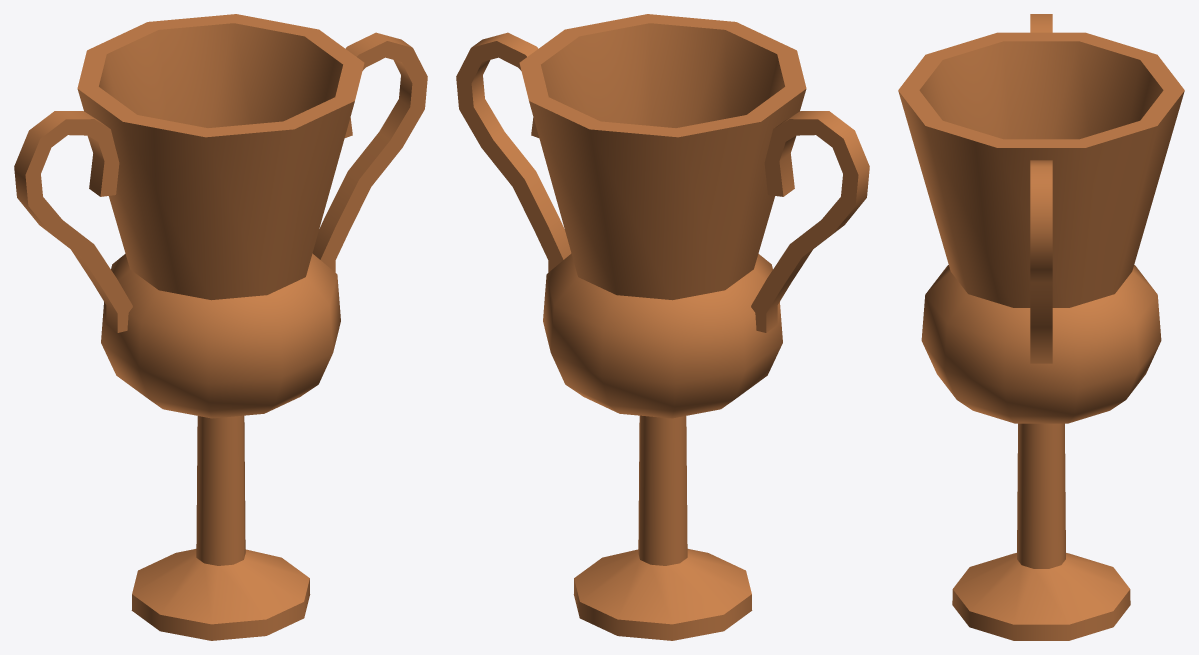
The model's file is Goblet_02.fbx.
3 renders of one model, left to right at view 1: azimuth 30°, elevation 25°; view 2: azimuth 150°, elevation 25°; view 3: azimuth 270°, elevation 25°, orthographic. The views are drawn at different scales.
Parts seen in each view (by area): view 1: Goblet_02; view 2: Goblet_02; view 3: Goblet_02.
Part boxes in pixels (x1,y1,x2,y2): Goblet_02: (14, 14, 427, 640); Goblet_02: (456, 14, 869, 640); Goblet_02: (898, 14, 1184, 640).
Bounding box in the file's own units: 0.2092 × 0.2618 × 0.1321.
